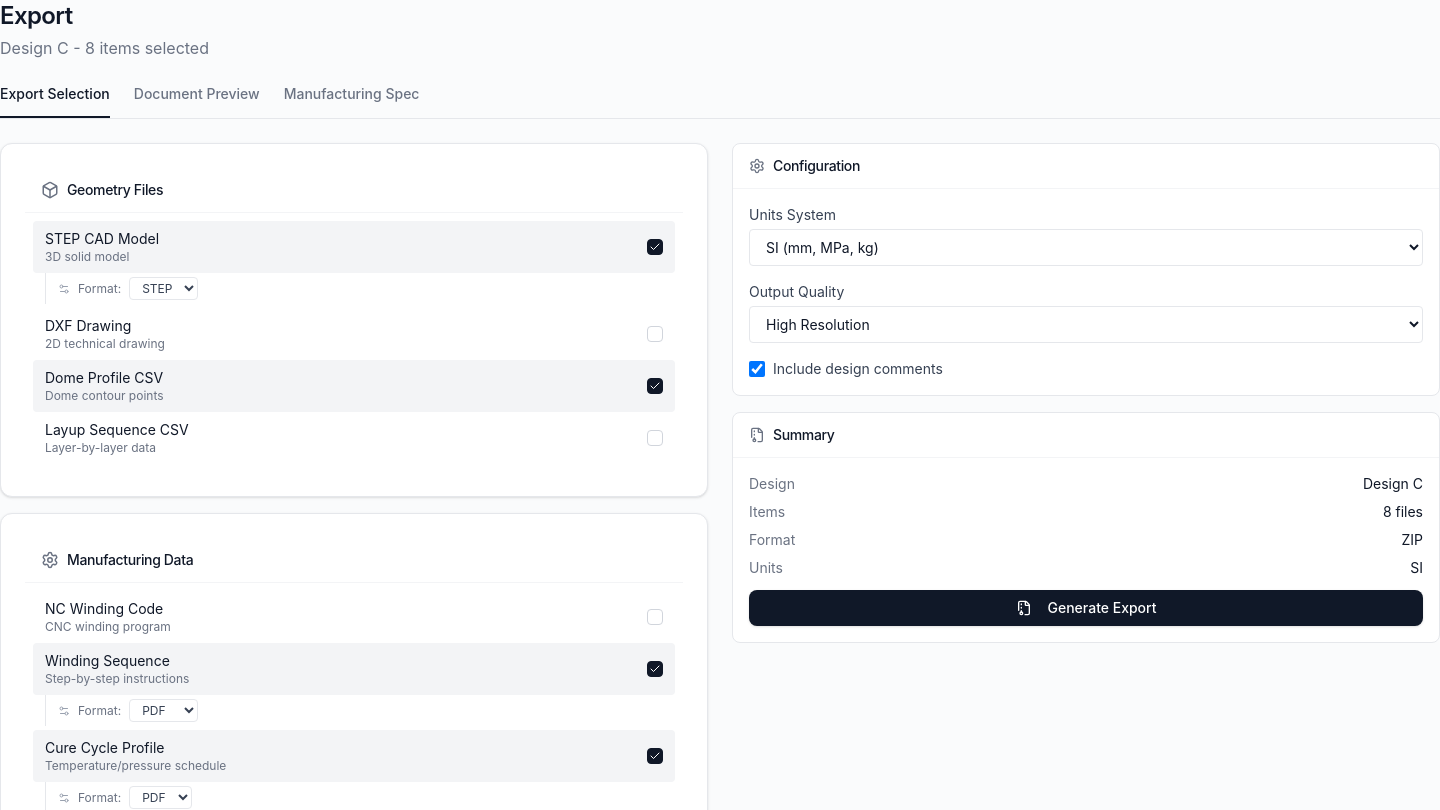
Scenario: ExportScreen › Export Progress › should display progress indicator during generation
Click the button "Generate Export".
click(1086, 608)  # box top-left (749, 590), bottom-right (1423, 626)
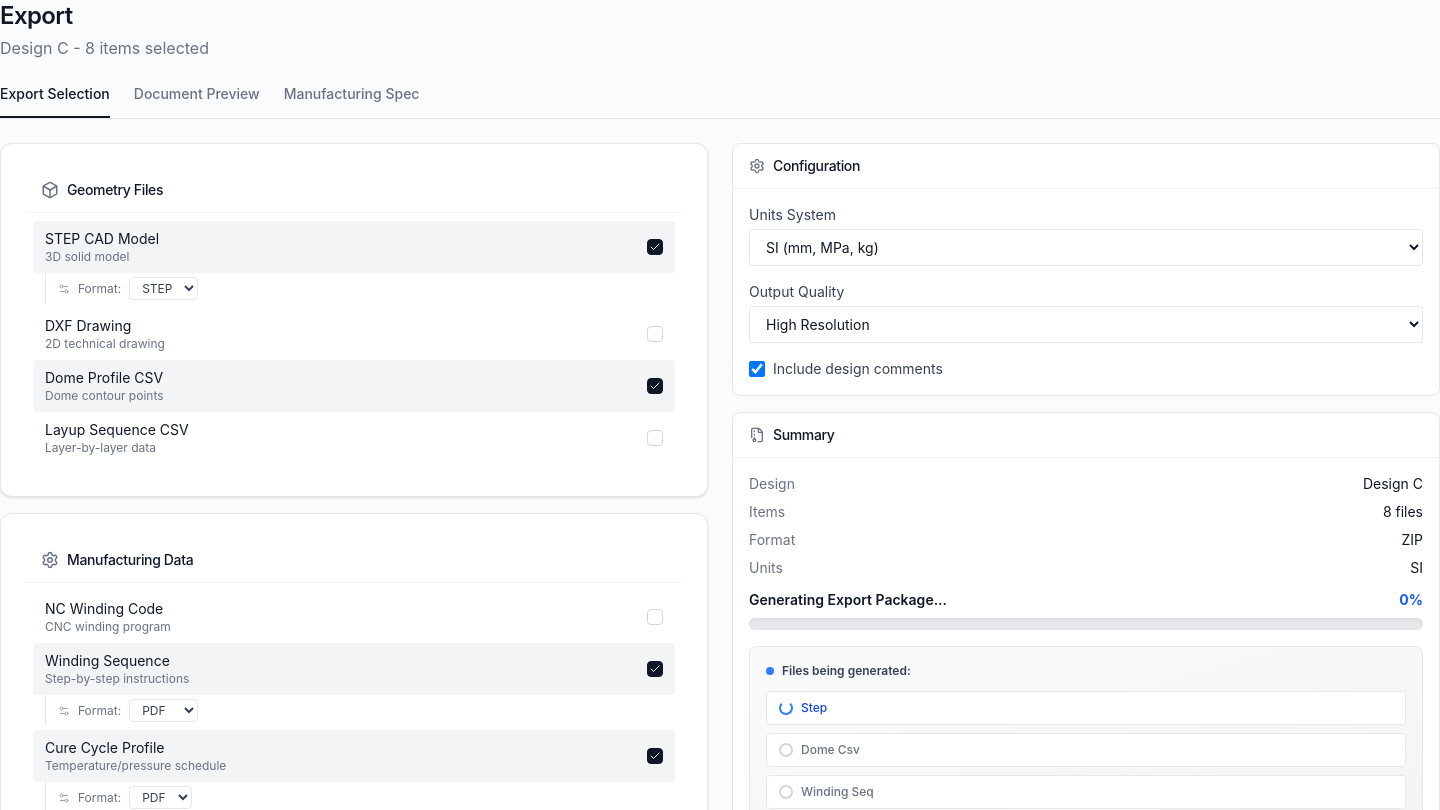
Now the text "Generating Export Package..." is shown, box top-left (749, 590), bottom-right (947, 610)
